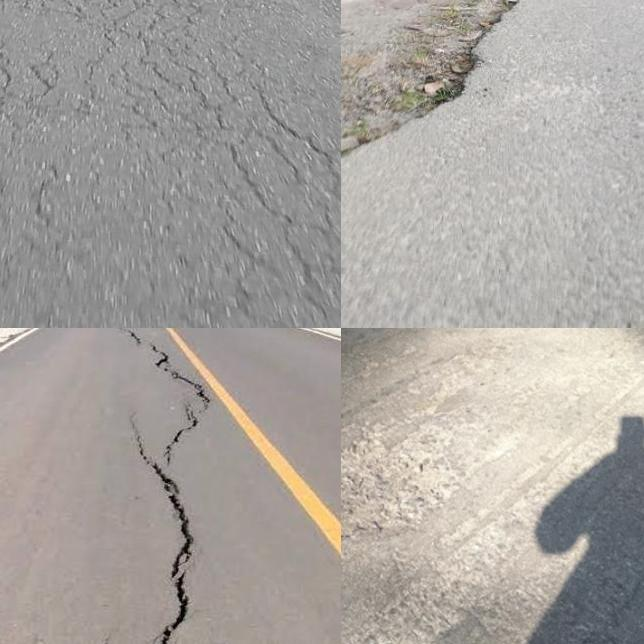Lubang: (341, 442, 464, 532)
Memanjang: (125, 328, 218, 644)
Pinggir: (341, 0, 577, 205)
Retak Buaya: (0, 0, 341, 302)
